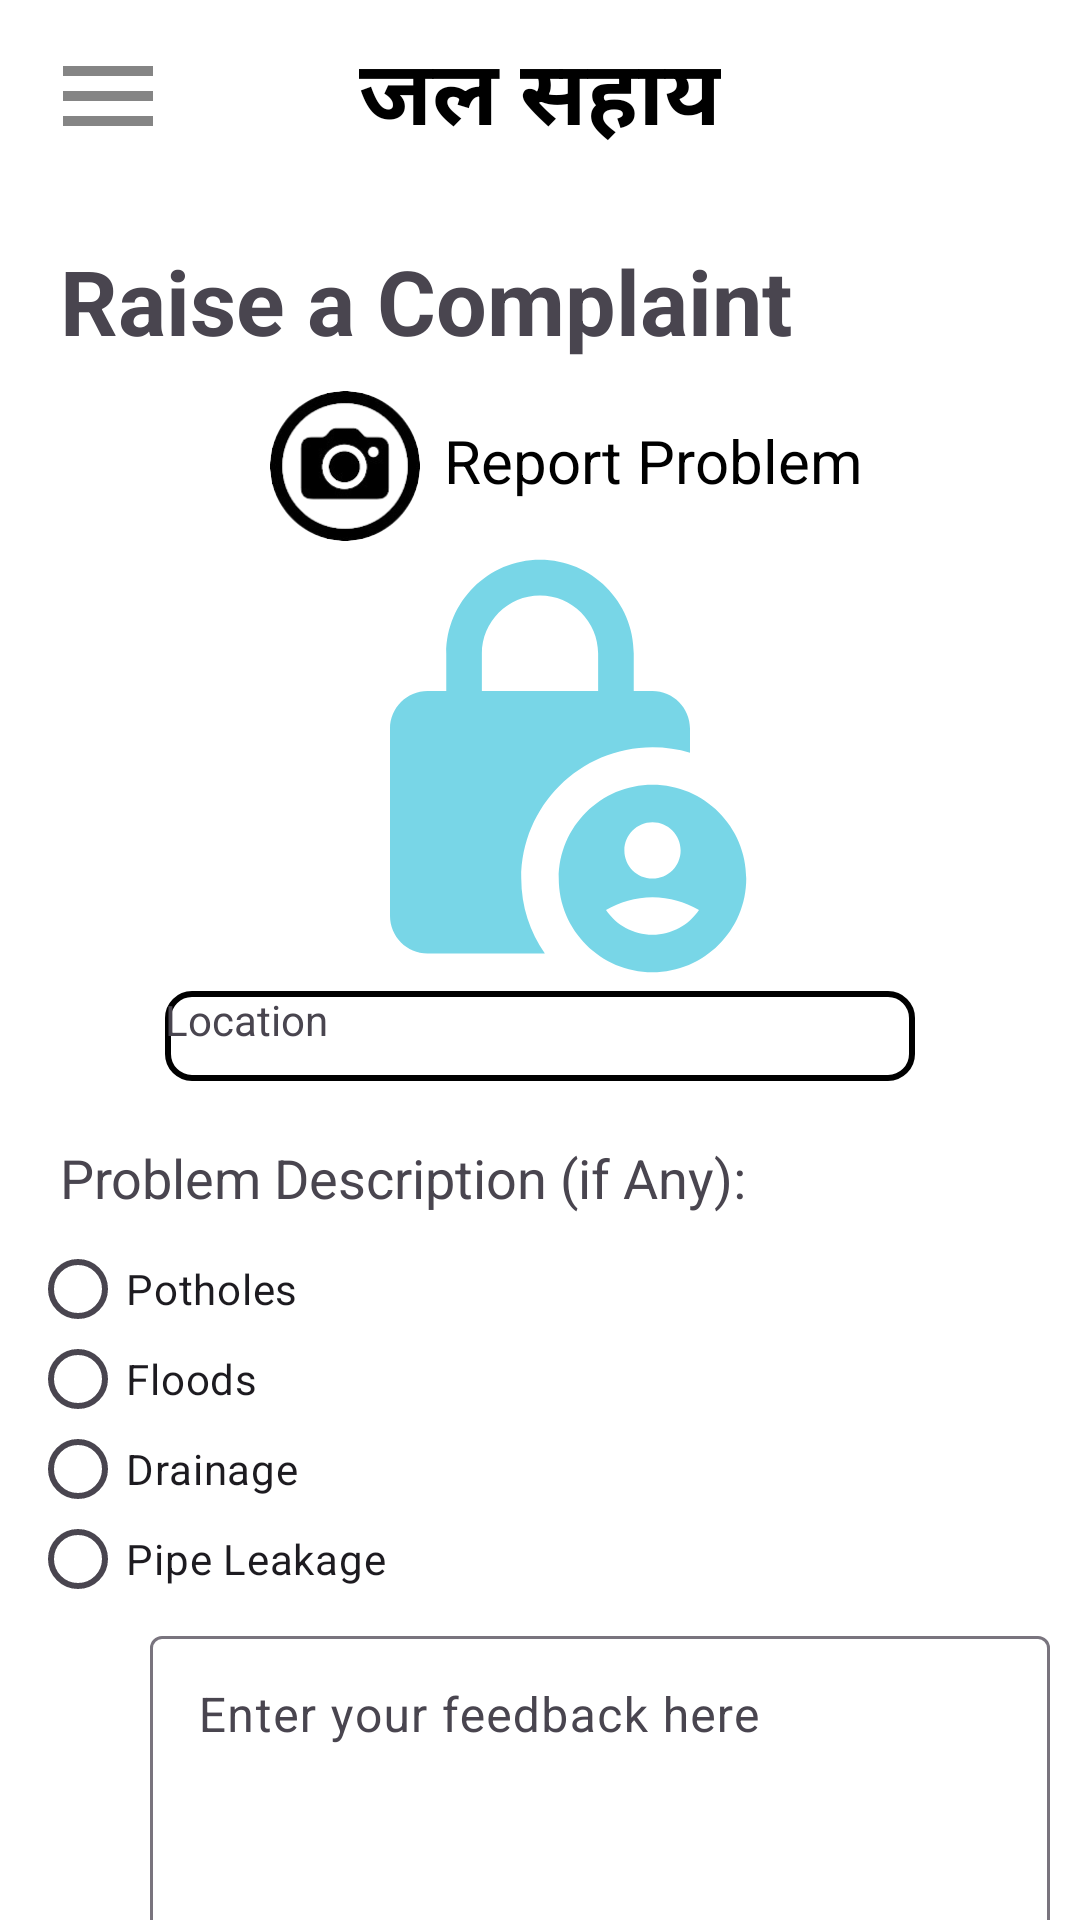

Icons on this 1080 × 1920 Android screen, each with the point to tap as (x,y):
camera: (345,466)
name hamburger: (108,96)
